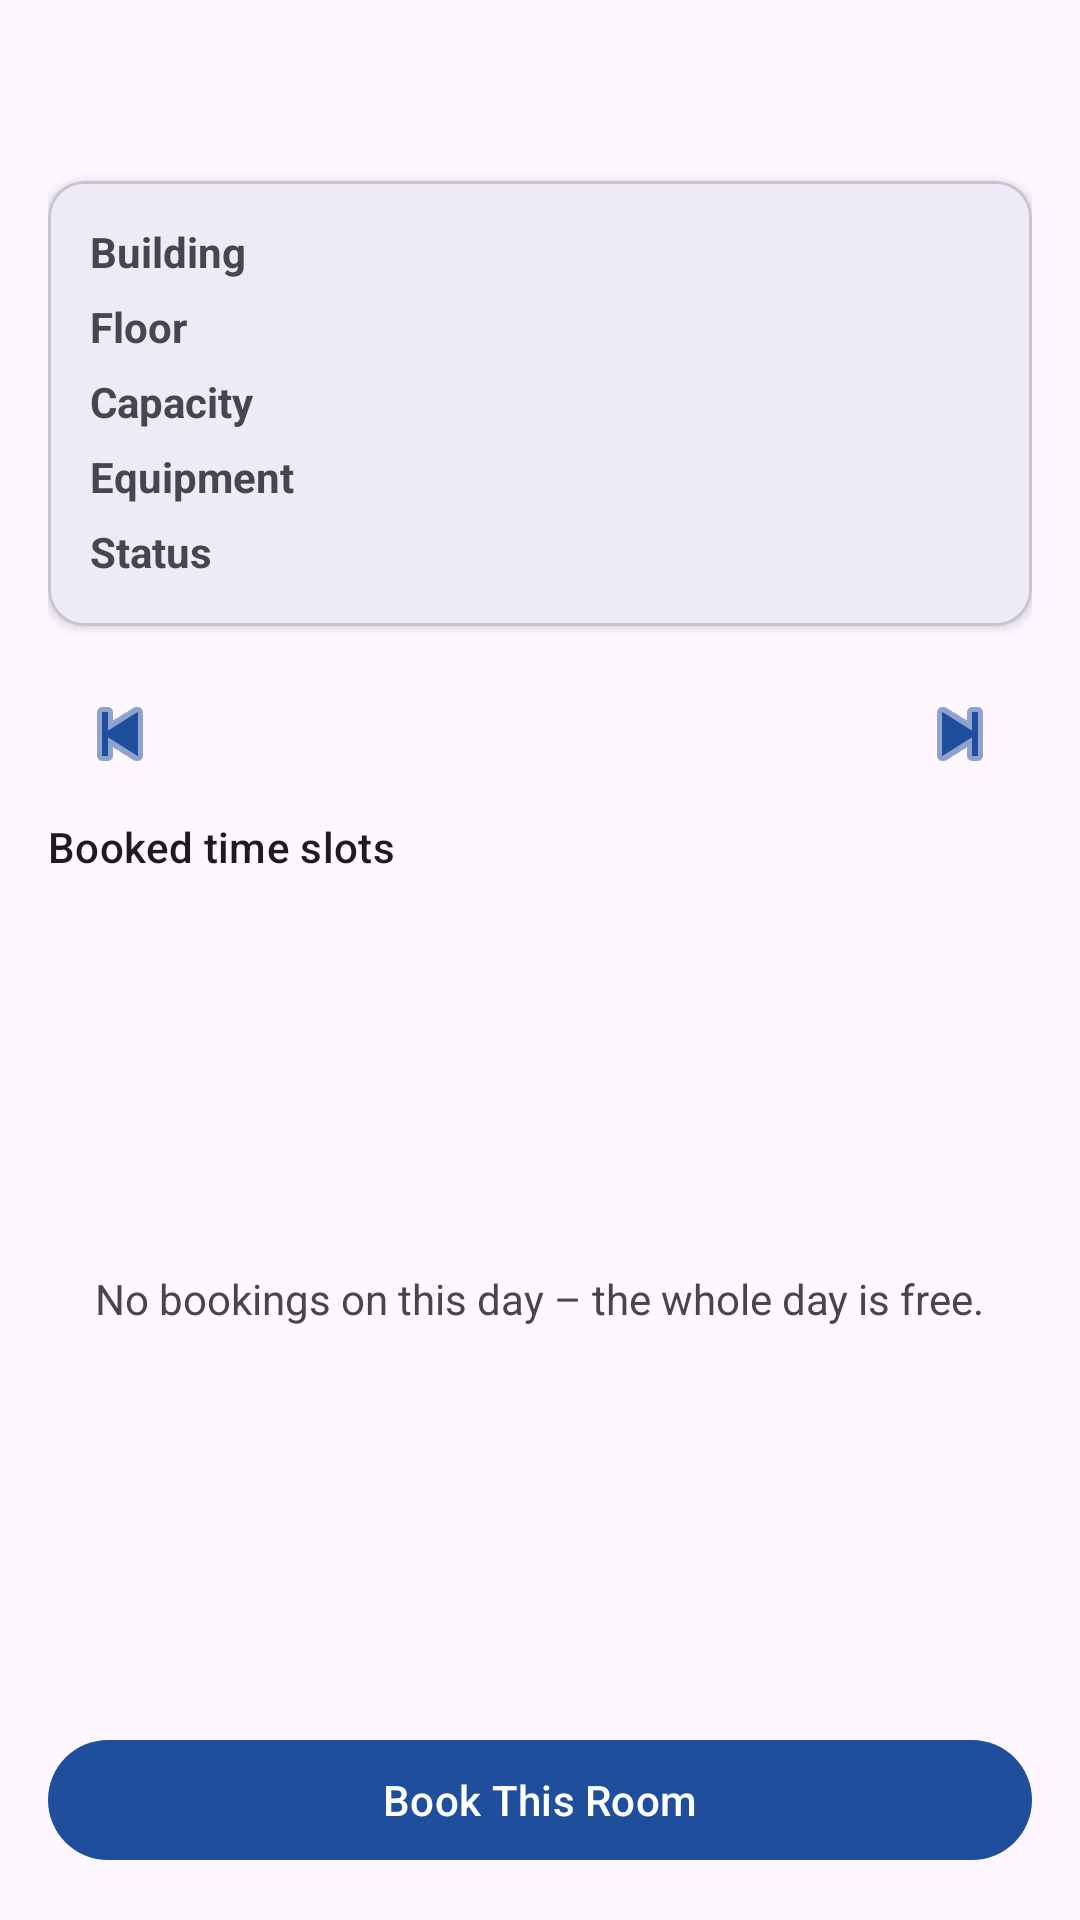

Icon click points for this 1080*1920 phone screenshot, format (x=x, y=y):
Next day: (x=960, y=734)
Previous day: (x=120, y=734)
